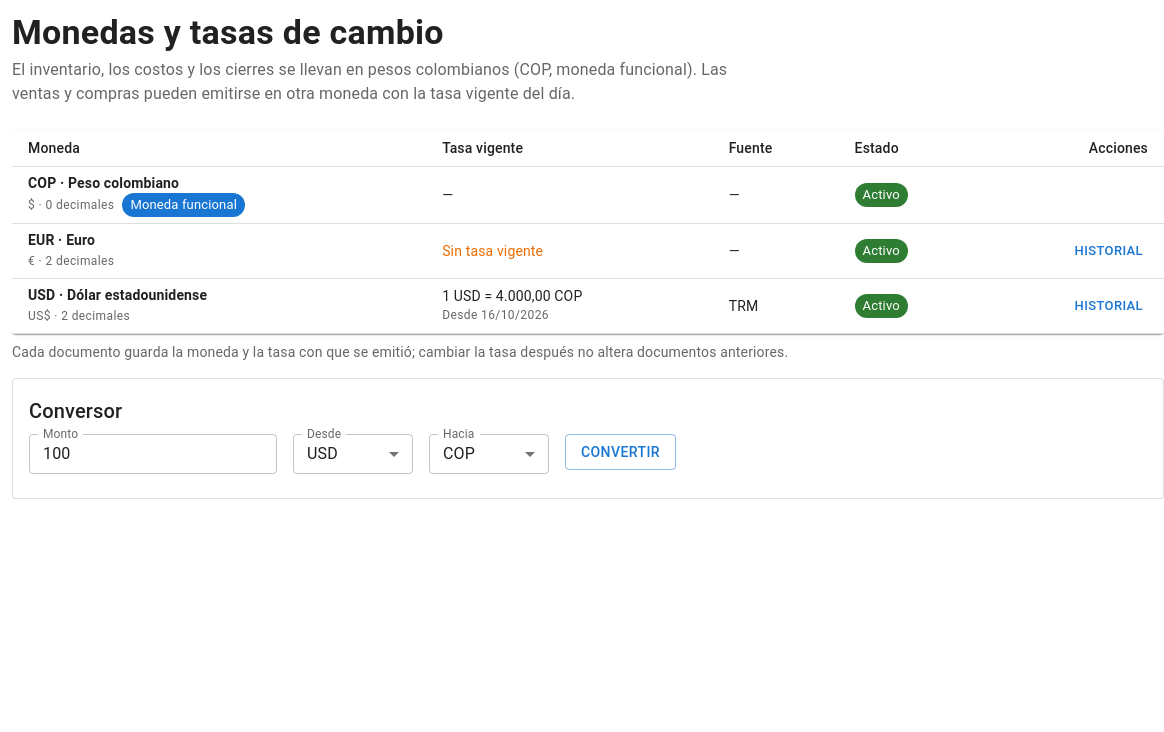
Scenario: MonedasPage › FE-MON-06 el conversor muestra el resultado con las tasas usadas
expect the text "1 USD = 4.000,00 COP Desde 16/10/2026" is shown: met, box [426,278,713,333]
Click the button "Convertir" at point(620, 452), box [565,434,676,470]
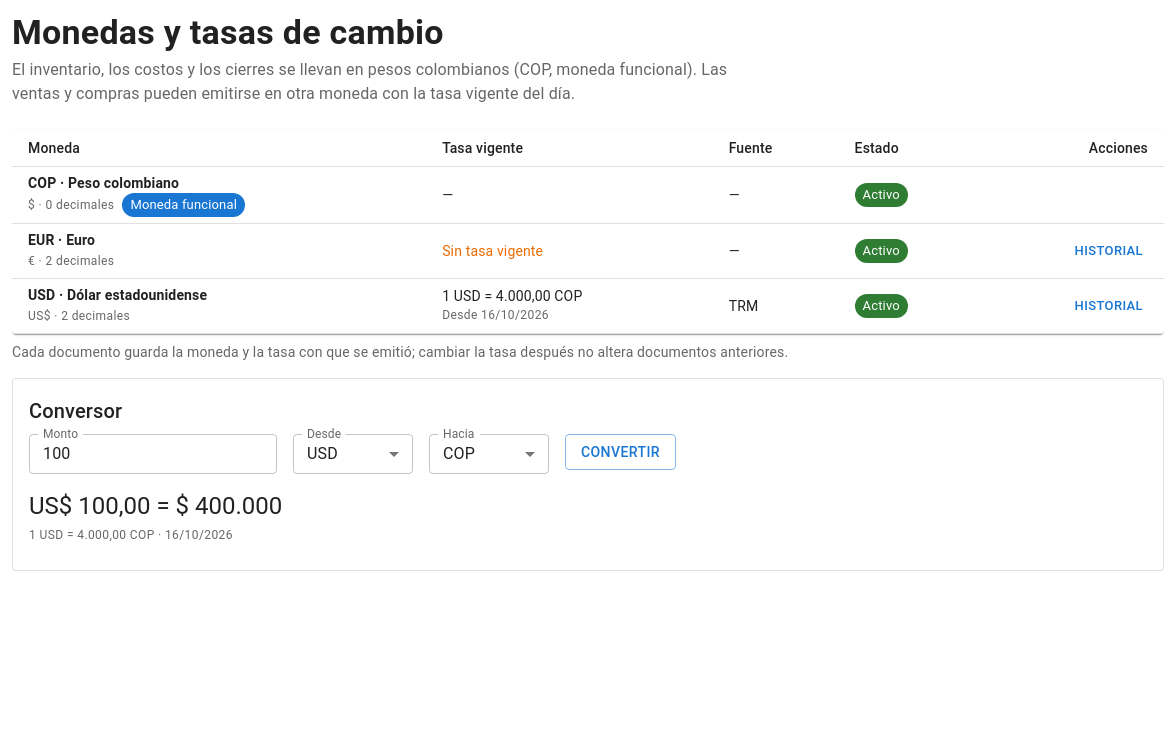
expect the text with test id "resultado-conversion" shows "400.000": met, box [176,492,282,520]
